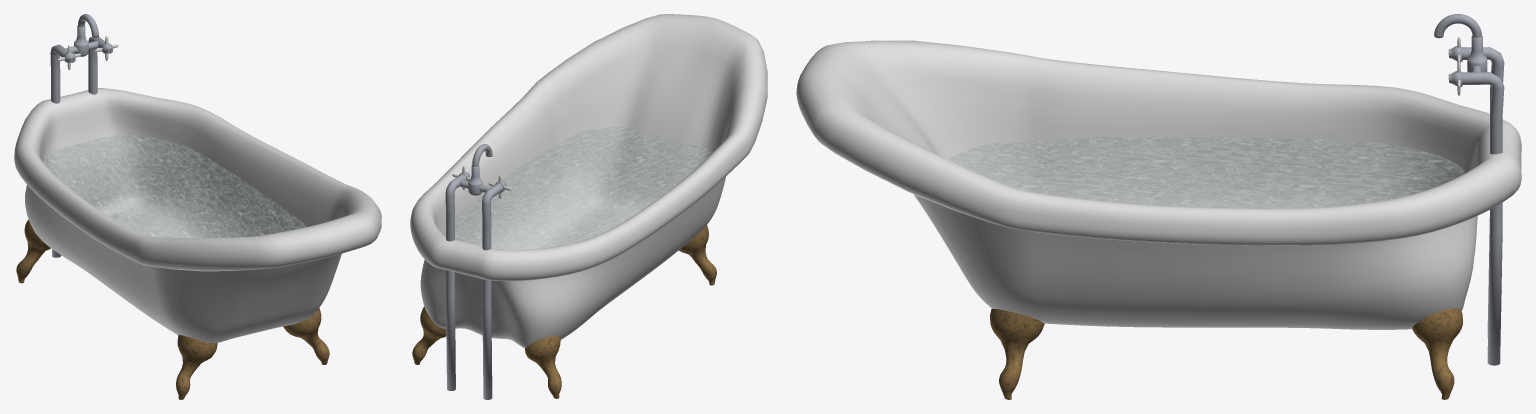
The picture shows the model from 3 angles, left to right: view 1: azimuth 30°, elevation 25°; view 2: azimuth 150°, elevation 25°; view 3: azimuth 270°, elevation 25°; orthographic projection. The views are drawn at different scales.
Visible parts, largest first — view 1: Bath, Water; view 2: Bath, Water; view 3: Bath, Water.
Boxes of the visible parts, bbox=[...] form: Bath: bbox=[14, 14, 381, 399]; Water: bbox=[43, 135, 306, 237]; Bath: bbox=[410, 14, 767, 399]; Water: bbox=[441, 127, 712, 249]; Bath: bbox=[796, 14, 1521, 399]; Water: bbox=[949, 137, 1464, 208].
Bounding box in the file's own units: 4.69 × 4.94 × 9.63.
4 materials, 3 textured.
